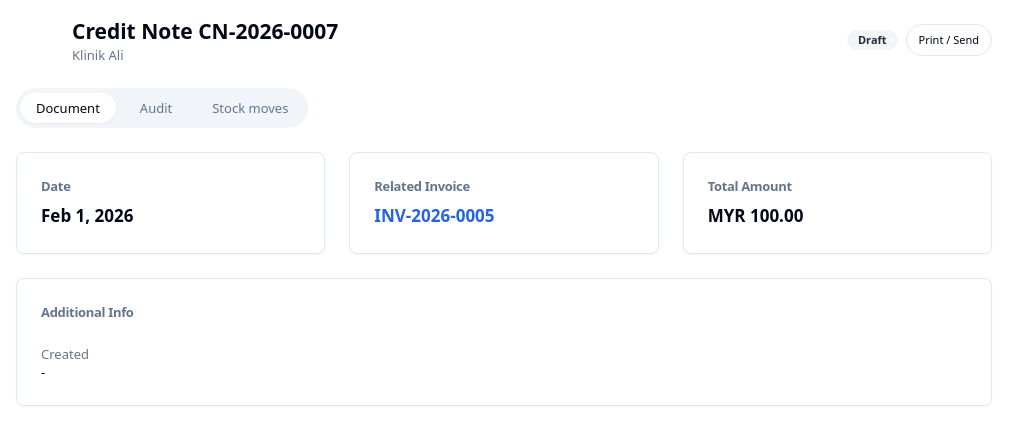
Scenario: CustomerCreditNoteDetail — Audit tab (#905 / PCU1) › renders the Audit tab and loads the read-only credit-note audit feed
This screenshot has width=1009, height=423.
Expected: the heading "Credit Note CN-2026-0007" is shown, 72,16 -> 338,46
Press the mouse on the tab "Audit" at coordinates (152, 108), box 116,93 -> 188,123
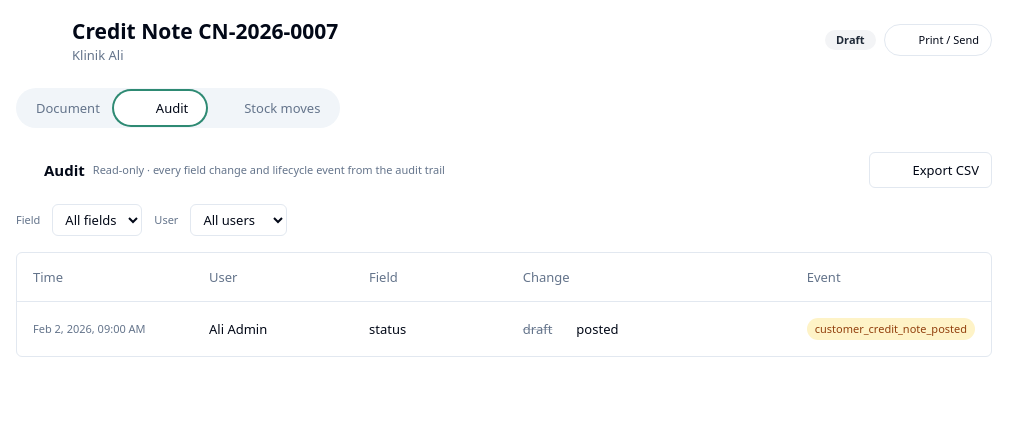
Expected: the element with test id "audit-tab" is shown, 16,152 -> 992,356
Expected: the text "customer_credit_note_posted" is shown, 807,318 -> 975,340
